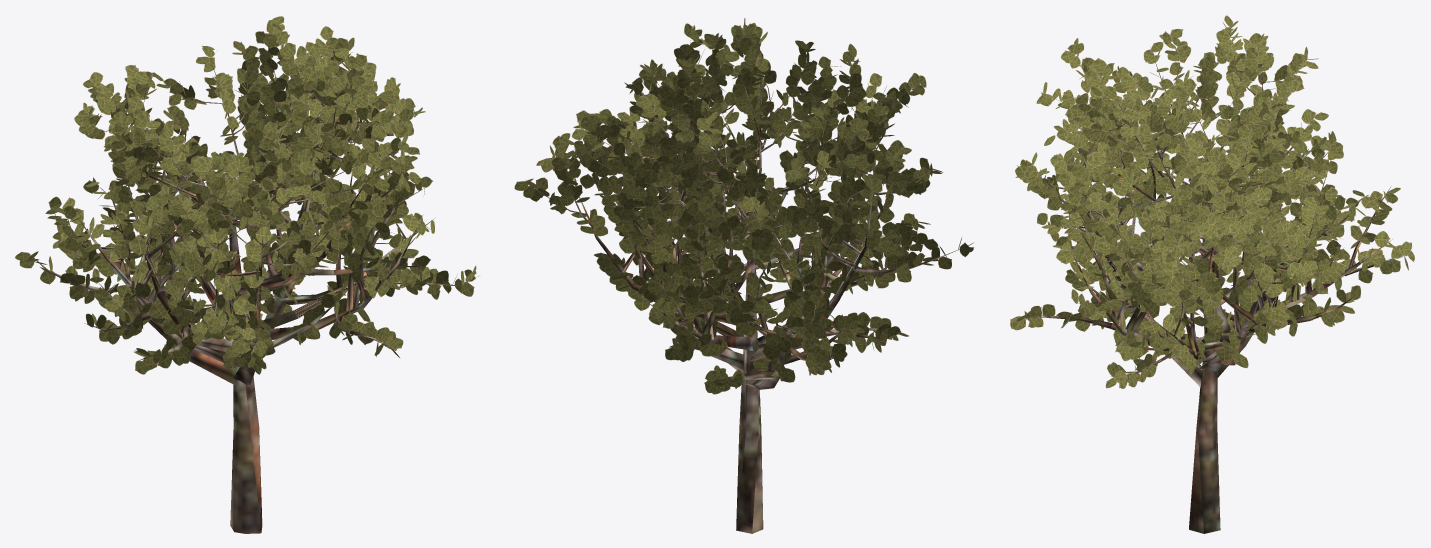
File: tree_1.glb
The picture shows the model from 3 angles, left to right: view 1: azimuth 30°, elevation 25°; view 2: azimuth 150°, elevation 25°; view 3: azimuth 270°, elevation 25°; orthographic projection. The views are drawn at different scales.
Visible parts, largest first — view 1: tree1; view 2: tree1; view 3: tree1.
Boxes of the visible parts, x1,y1,x2,y2 form: tree1: (15,16,478,533); tree1: (514,18,973,533); tree1: (1010,15,1414,533).
Size of the model in its own units: 1464 by 1793 by 1399.
2 materials, 2 textured.
